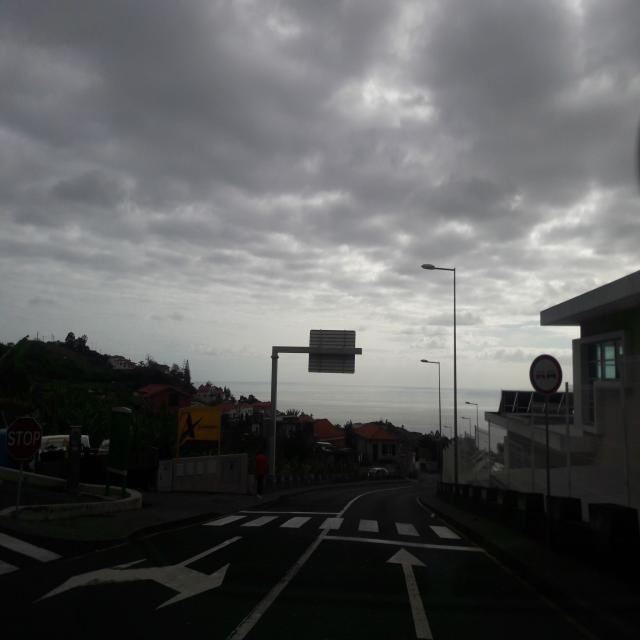car: (368, 466, 389, 480)
